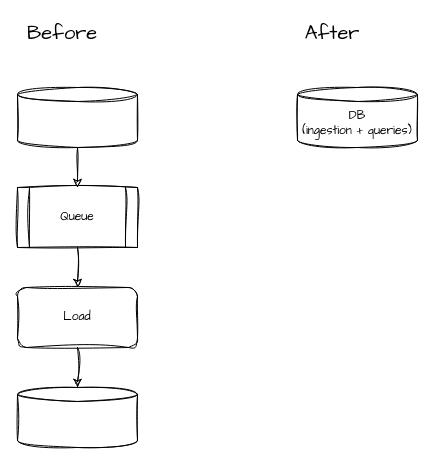
Some shapes in this 435 by 465 pixel diagram are drawn without their labels. Each missing label, with the centre of its shape:
DB (ingestion): point (77, 117)
DB (queries): point (77, 417)
